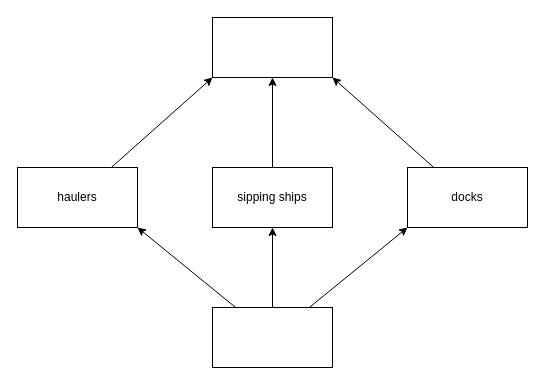
Image size: 545x385. Some labels were removed from this diagram. Here are the shapes that lost their labels. From the top down, the centre of each, then its label:
At [272,47]: "main".
At [272,337]: "database".
